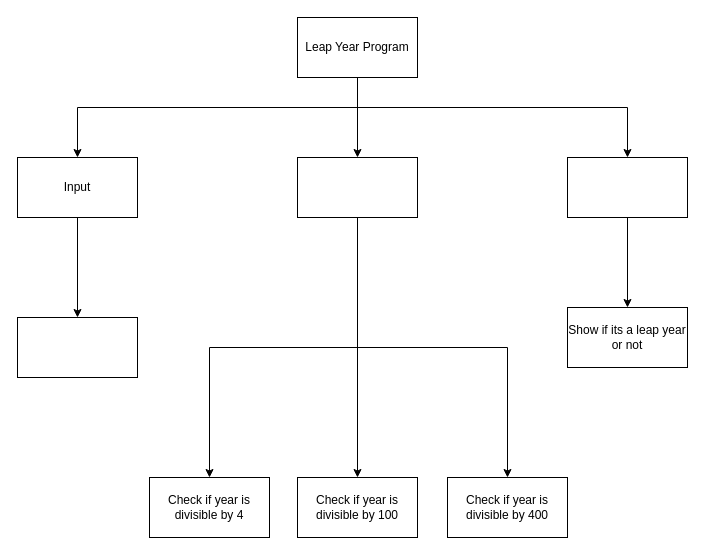
Image size: 705x555. Some labels were removed from this diagram. Each missing label, with the centre of its shape:
"Get Year" belongs at point 77,347.
"Output" belongs at point 627,187.
"Process" belongs at point 357,187.
